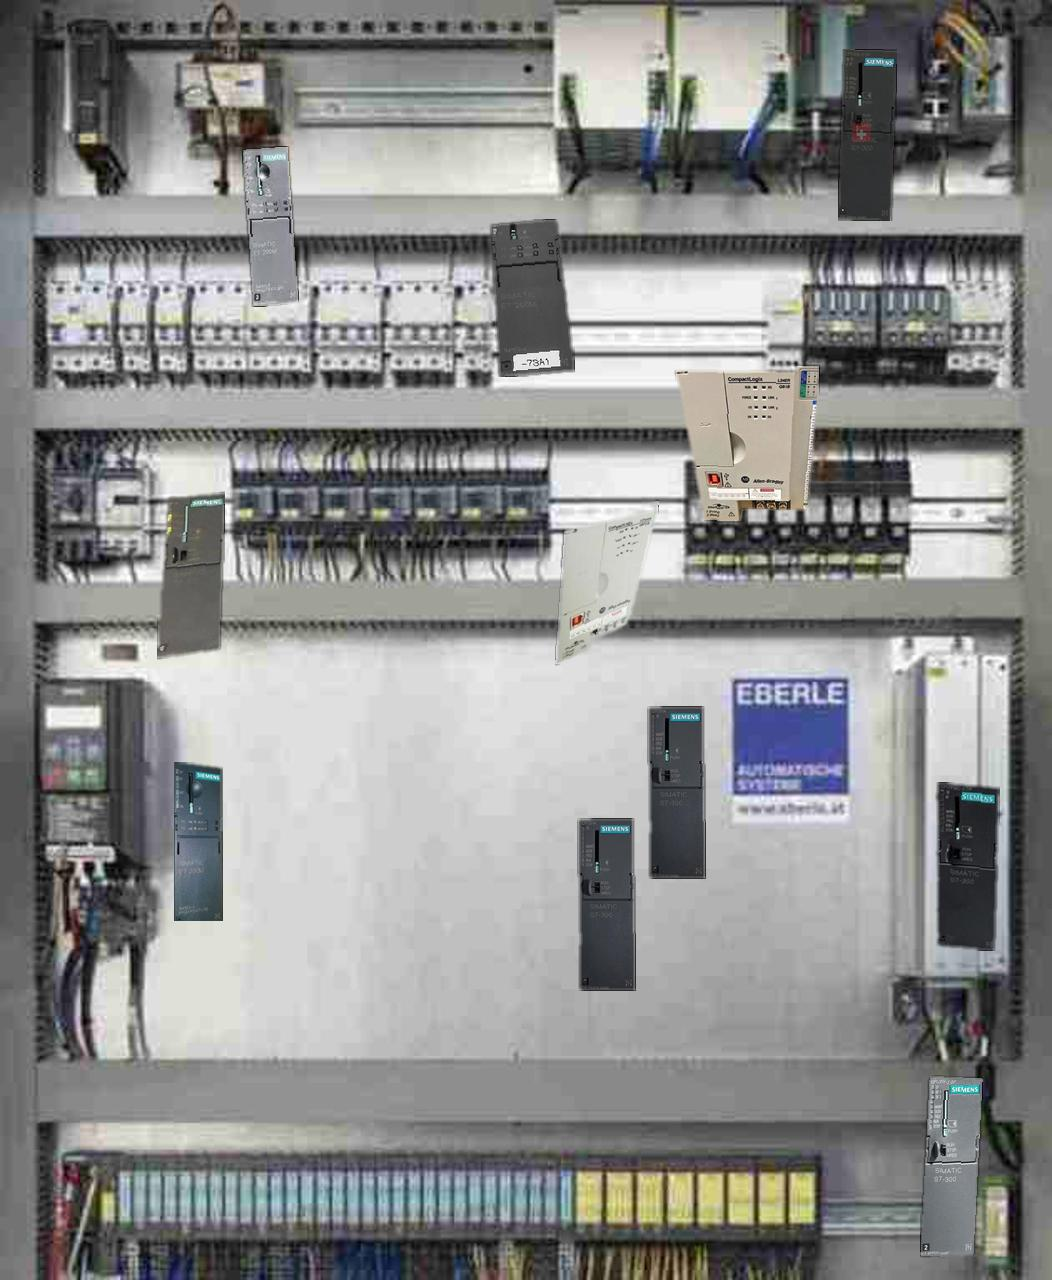AllenBradley: (676, 366, 818, 520), (556, 501, 658, 663)
Siemens: (157, 493, 224, 657), (920, 1077, 982, 1254), (937, 784, 998, 949), (838, 49, 896, 220), (649, 707, 705, 877), (579, 819, 634, 989)
